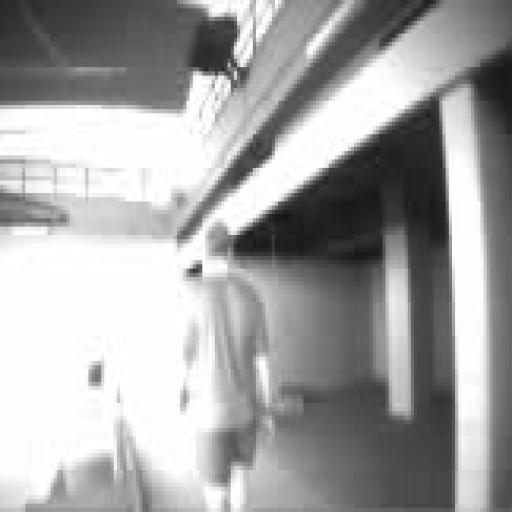human: (181, 223, 274, 511)
